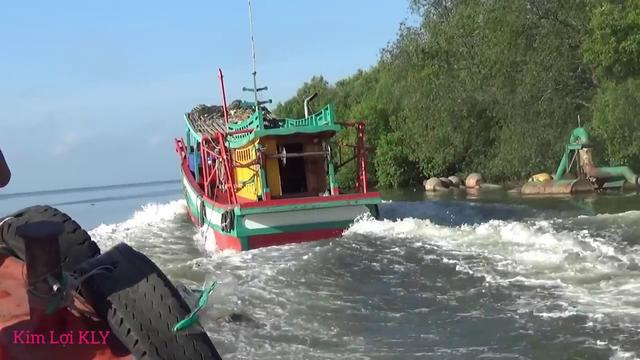Ship: (169, 97, 399, 255)
